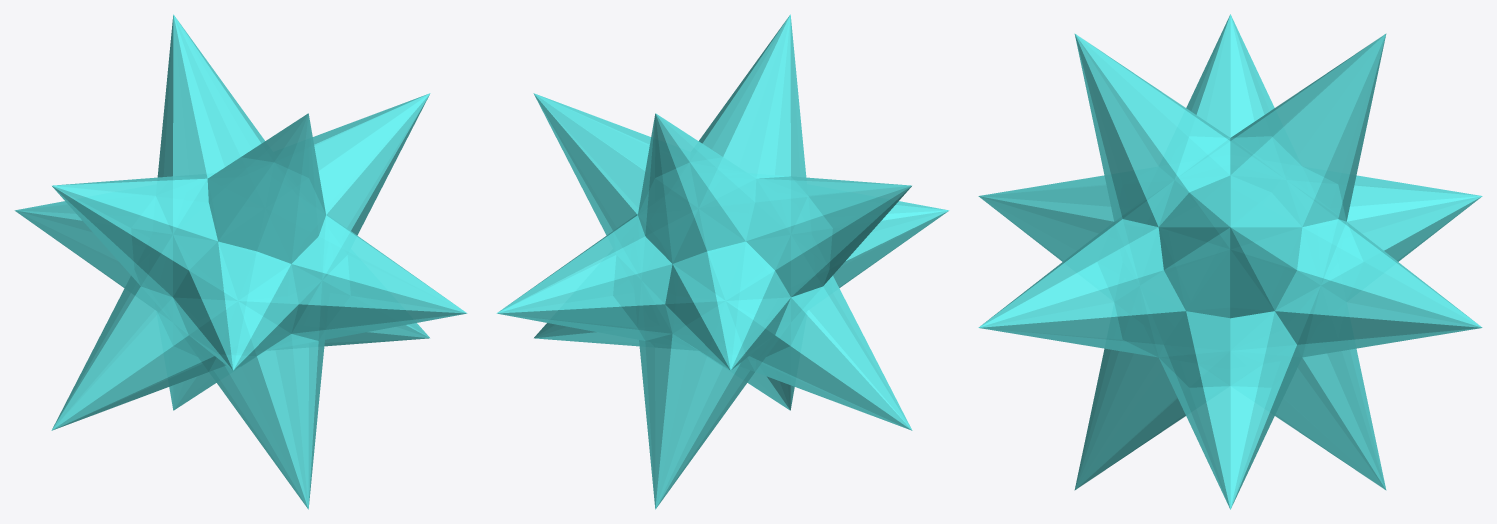
Rendered from SmallDitrigonalDodecacronicHexecontahedron.obj.
3 renders of one model, left to right at view 1: azimuth 30°, elevation 25°; view 2: azimuth 150°, elevation 25°; view 3: azimuth 270°, elevation 25°, orthographic. The views are drawn at different scales.
Bounding box in the file's own units: 7.85 × 7.85 × 7.85.
